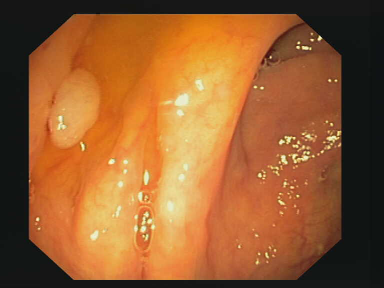polyp: (43, 56, 107, 156)
